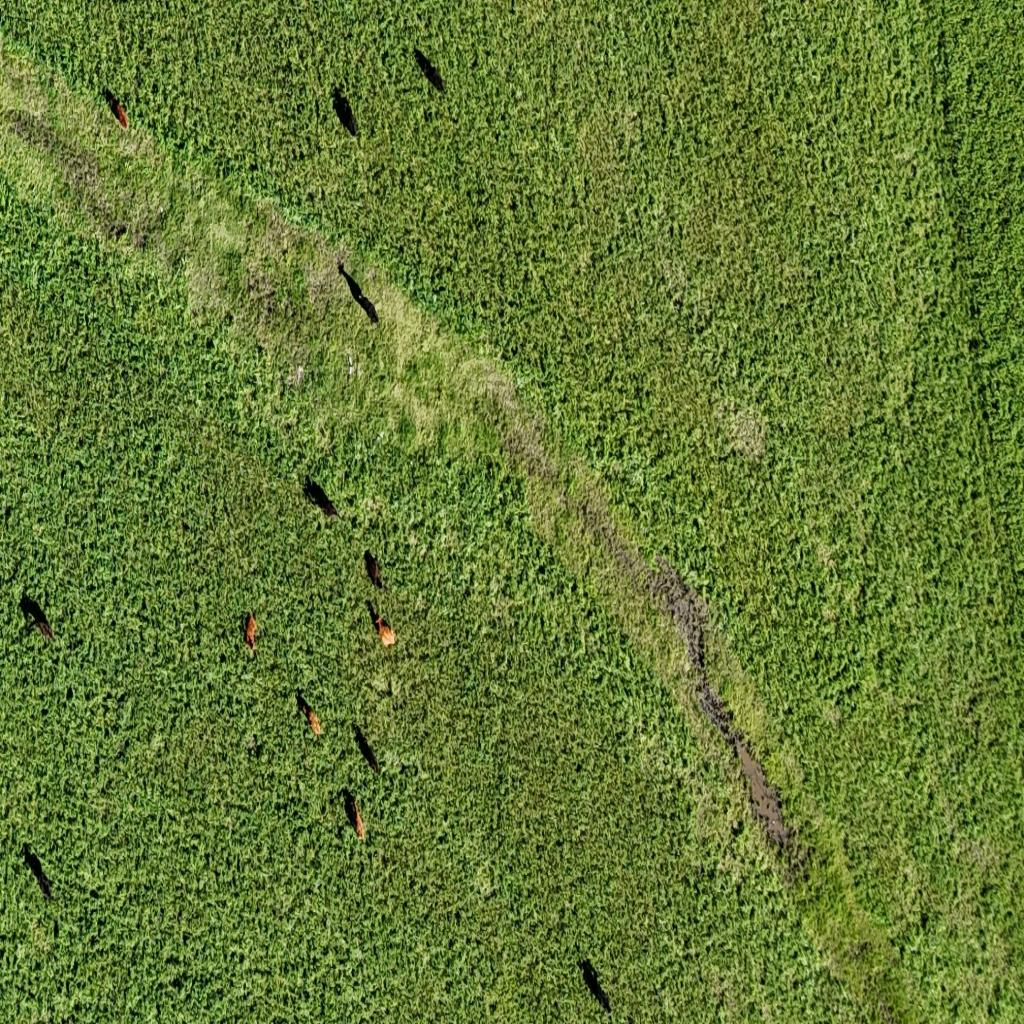cow: (304, 476, 342, 522), (368, 600, 397, 649), (332, 87, 358, 137), (343, 789, 365, 842), (297, 691, 322, 737), (104, 88, 129, 131), (355, 288, 379, 326), (242, 610, 260, 658), (364, 550, 384, 593), (32, 865, 54, 904), (34, 612, 58, 642), (414, 48, 435, 82), (593, 980, 613, 1014), (361, 742, 379, 777)
